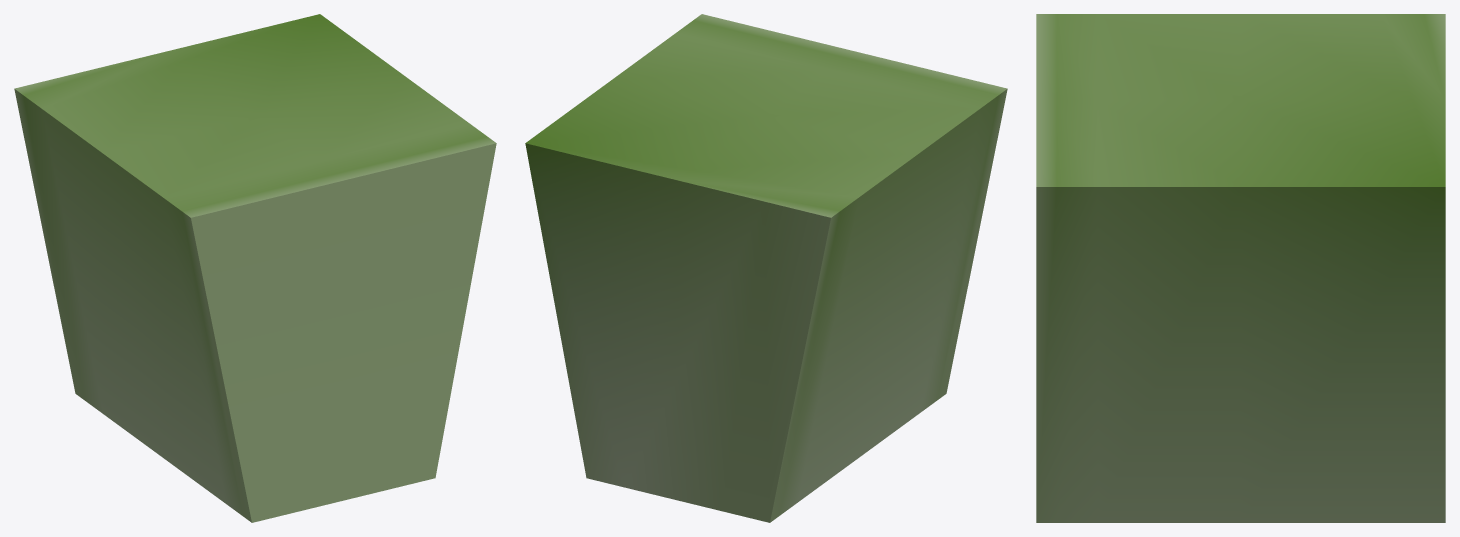
The model's file is T7DirL.fbx.
3 renders of one model, left to right at view 1: azimuth 30°, elevation 25°; view 2: azimuth 150°, elevation 25°; view 3: azimuth 270°, elevation 25°, orthographic. The views are drawn at different scales.
Visible parts, largest first — view 1: 3, 1, 4, 2; view 2: 4, 2, 3, 1; view 3: 1, 2, 3, 4.
Boxes of the visible parts, box(x1,y1,x2,y2) form: 3: box(102, 116, 343, 522); 1: box(256, 78, 496, 500); 4: box(14, 51, 254, 457); 2: box(167, 14, 407, 115); 4: box(678, 116, 919, 522); 2: box(525, 78, 765, 500); 3: box(767, 51, 1007, 457); 1: box(614, 14, 854, 115); 1: box(1036, 100, 1240, 522); 2: box(1241, 100, 1445, 522); 3: box(1036, 14, 1240, 100); 4: box(1241, 14, 1445, 100).
Bounding box in the file's own units: 200 × 200 × 200.
